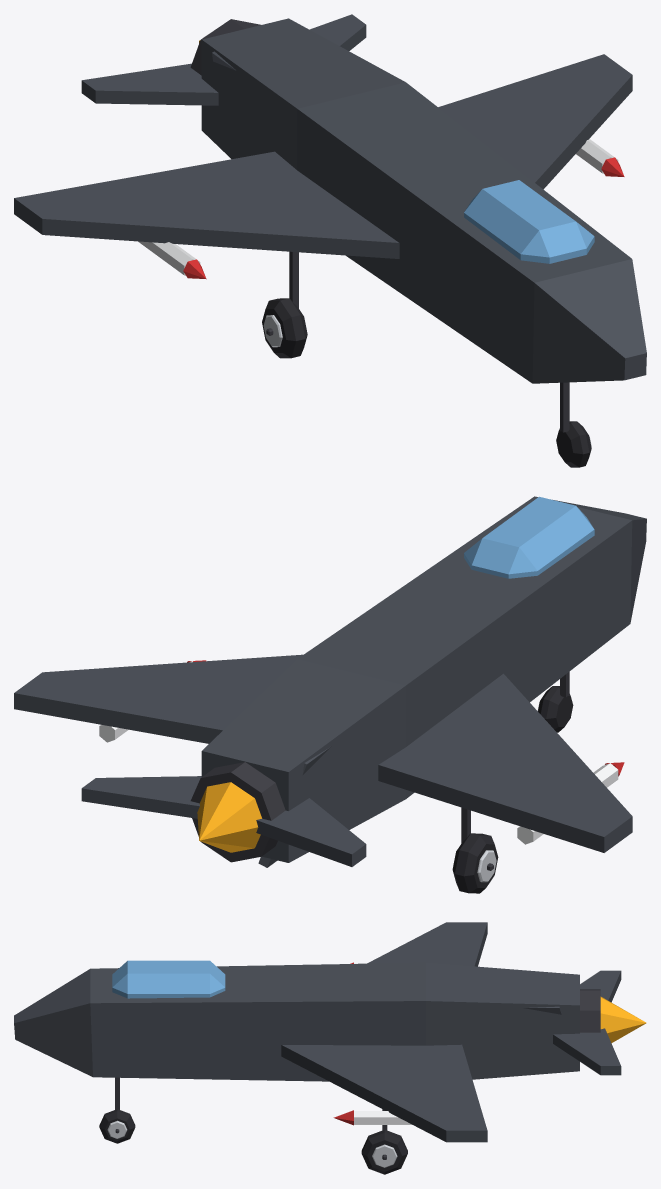
File: FighterJet.fbx
3 views of the same model, one above another, from view 1: azimuth 30°, elevation 25°; view 2: azimuth 150°, elevation 25°; view 3: azimuth 270°, elevation 25° (orthographic). The views are drawn at different scales.
Parts seen in each view (by area): view 1: FighterJet, FighterJet_WheelR, FighterJet_WheelF; view 2: FighterJet, FighterJet_WheelR, FighterJet_WheelF; view 3: FighterJet, FighterJet_WheelL, FighterJet_WheelF.
Part boxes in pixels (left/top/right/bottom): FighterJet: left=14, top=14, right=646, bottom=432; FighterJet_WheelR: left=262, top=298, right=307, bottom=358; FighterJet_WheelF: left=556, top=421, right=591, bottom=467; FighterJet: left=14, top=496, right=646, bottom=867; FighterJet_WheelR: left=452, top=833, right=498, bottom=893; FighterJet_WheelF: left=537, top=686, right=573, bottom=732; FighterJet: left=14, top=922, right=646, bottom=1142; FighterJet_WheelL: left=361, top=1129, right=407, bottom=1174; FighterJet_WheelF: left=99, top=1109, right=135, bottom=1143.
Bounding box in the file's own units: 9.6 × 3.7 × 12.31.
1 material, 1 textured.
